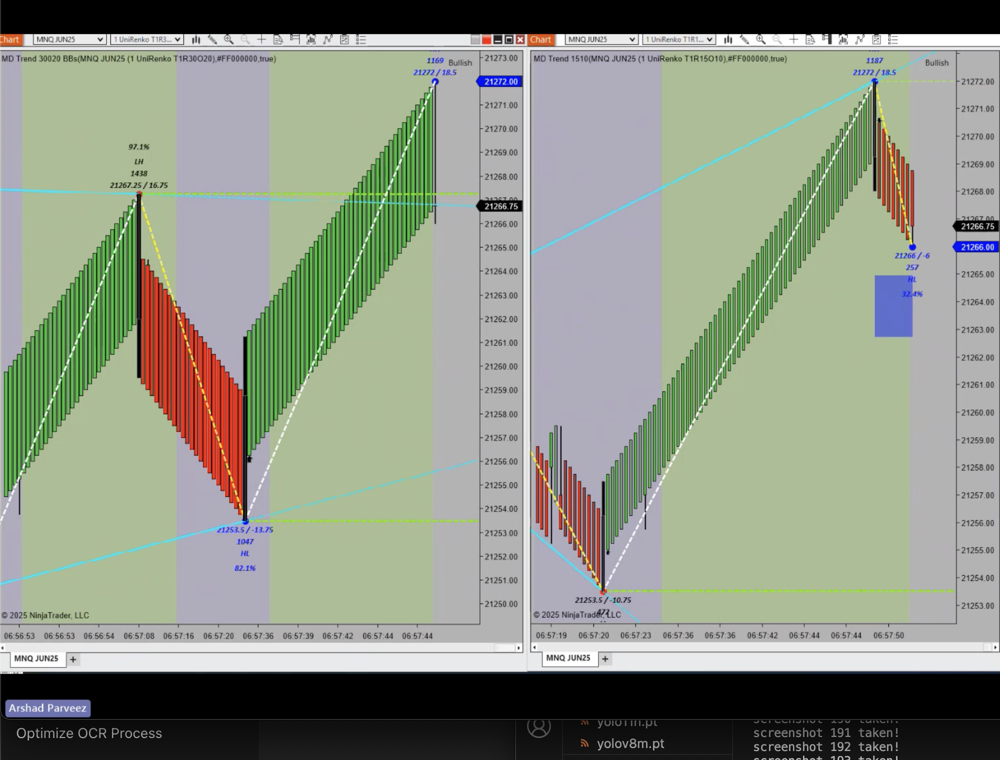HL: (233, 546, 259, 566), (903, 271, 916, 284)
LH: (128, 155, 154, 170)
